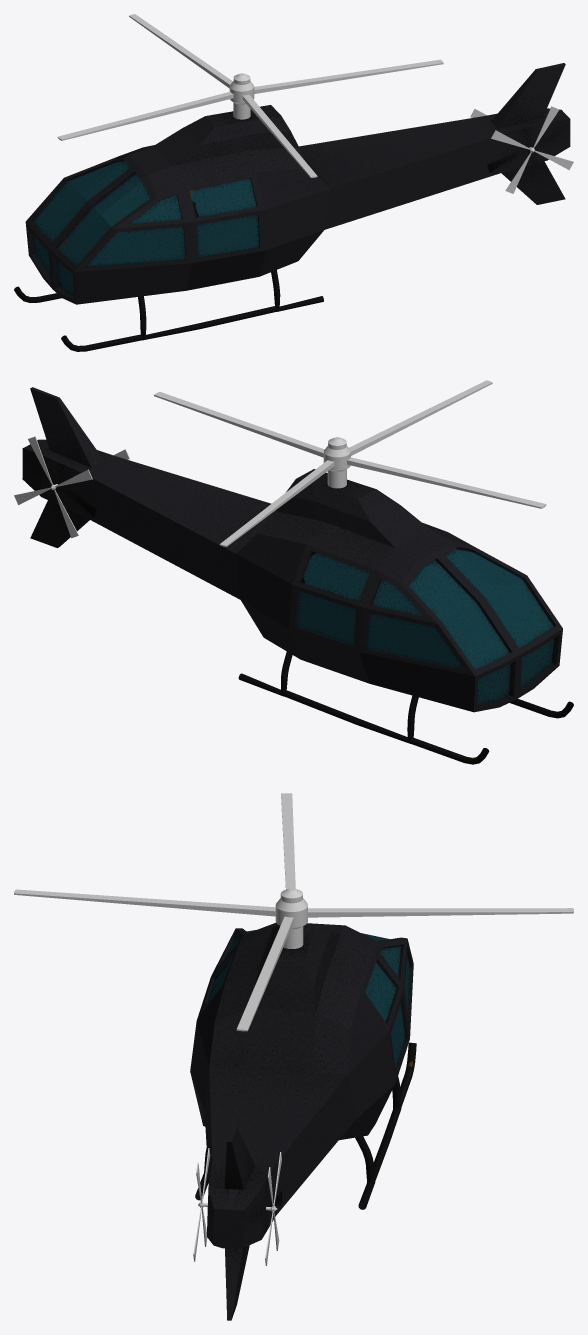
File: anim_000188.obj
The picture shows the model from 3 angles, top to bottom: view 1: azimuth 30°, elevation 25°; view 2: azimuth 150°, elevation 25°; view 3: azimuth 270°, elevation 25°; orthographic projection. The views are drawn at different scales.
Visible parts, largest first — view 1: Helicopter.007_Cylinder.008, Helicopter.001_Cylinder.001, Helicopter.003_Cylinder.004; view 2: Helicopter.007_Cylinder.008, Helicopter.001_Cylinder.001, Helicopter.004_Cylinder.005; view 3: Helicopter.007_Cylinder.008, Helicopter.001_Cylinder.001.
Part boxes in pixels (left/top/right/bottom): Helicopter.007_Cylinder.008: left=14, top=63, right=570, bottom=351; Helicopter.001_Cylinder.001: left=57, top=14, right=443, bottom=177; Helicopter.003_Cylinder.004: left=491, top=106, right=573, bottom=193; Helicopter.007_Cylinder.008: left=22, top=387, right=573, bottom=764; Helicopter.001_Cylinder.001: left=154, top=380, right=546, bottom=546; Helicopter.004_Cylinder.005: left=14, top=436, right=92, bottom=538; Helicopter.007_Cylinder.008: left=190, top=922, right=416, bottom=1320; Helicopter.001_Cylinder.001: left=14, top=793, right=573, bottom=1031.
Bounding box in the file's own units: 7.55 × 3.21 × 5.56.
